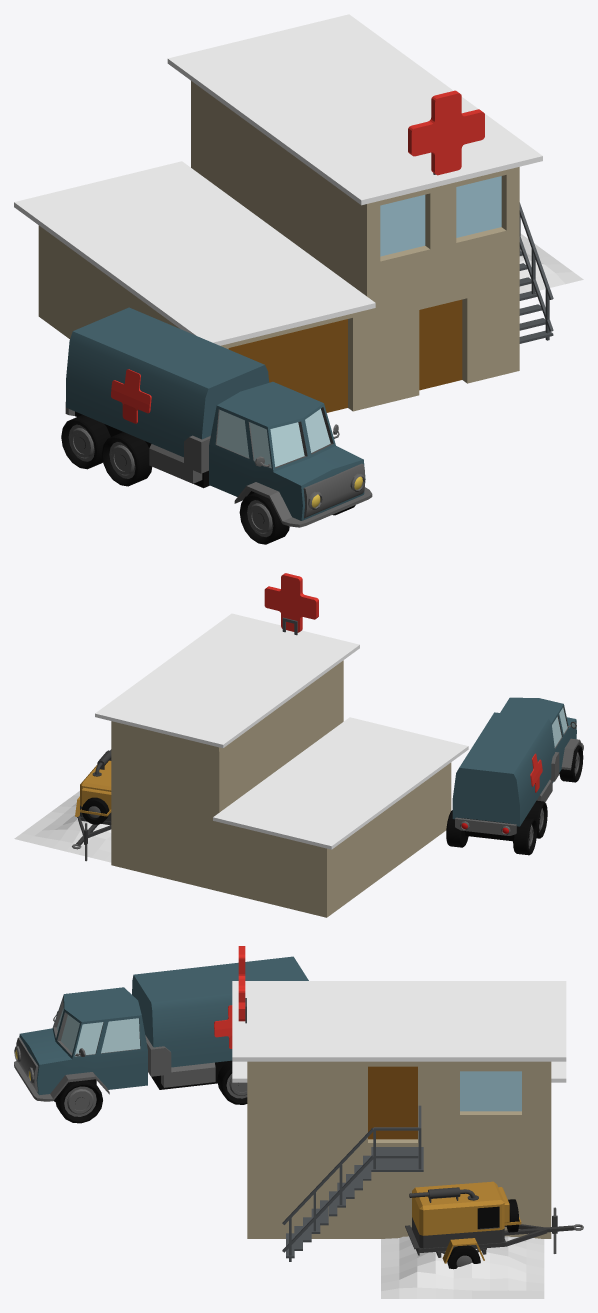
The model's file is hospital_snow.fbx.
3 views of the same model, one above another, from view 1: azimuth 30°, elevation 25°; view 2: azimuth 150°, elevation 25°; view 3: azimuth 270°, elevation 25° (orthographic). The views are drawn at different scales.
Parts seen in each view (by area): view 1: hospital_building, paramedical_truck, hospital, ladder, snow; view 2: hospital_building, paramedical_truck, snow, Generator, hospital; view 3: hospital_building, paramedical_truck, snow, Generator, ladder, hospital.
Boxes of the visible parts, x1=… form: hospital_building: x1=14, y1=14, x2=542, y2=412; paramedical_truck: x1=61, y1=307, x2=372, y2=544; hospital: x1=408, y1=90, x2=484, y2=175; ladder: x1=519, y1=202, x2=553, y2=343; snow: x1=519, y1=233, x2=583, y2=293; hospital_building: x1=95, y1=613, x2=468, y2=917; paramedical_truck: x1=446, y1=697, x2=583, y2=855; snow: x1=14, y1=791, x2=111, y2=862; Generator: x1=72, y1=749, x2=111, y2=861; hospital: x1=264, y1=573, x2=318, y2=635; hospital_building: x1=232, y1=981, x2=566, y2=1238; paramedical_truck: x1=14, y1=956, x2=308, y2=1123; snow: x1=381, y1=1236, x2=544, y2=1298; Generator: x1=405, y1=1181, x2=583, y2=1269; ladder: x1=282, y1=1105, x2=423, y2=1261; hospital: x1=238, y1=946, x2=246, y2=1023.
Size of the model in its own units: 1326 by 653 by 1313.
